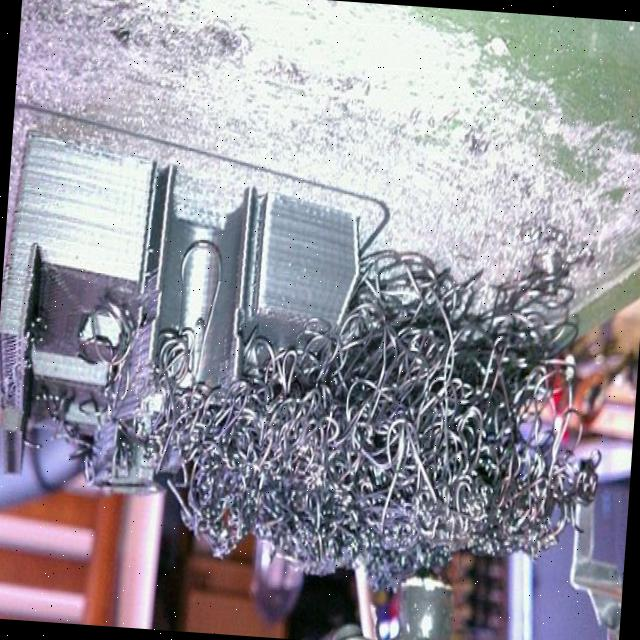spaghetti: (110, 195, 616, 602)
